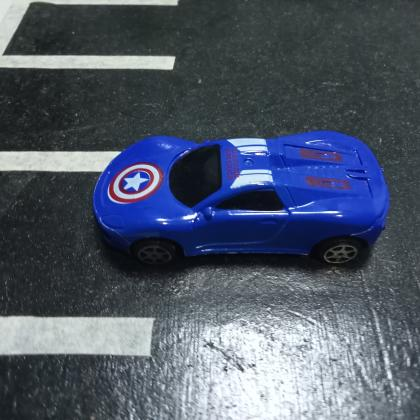Car: (92, 128, 393, 268)
